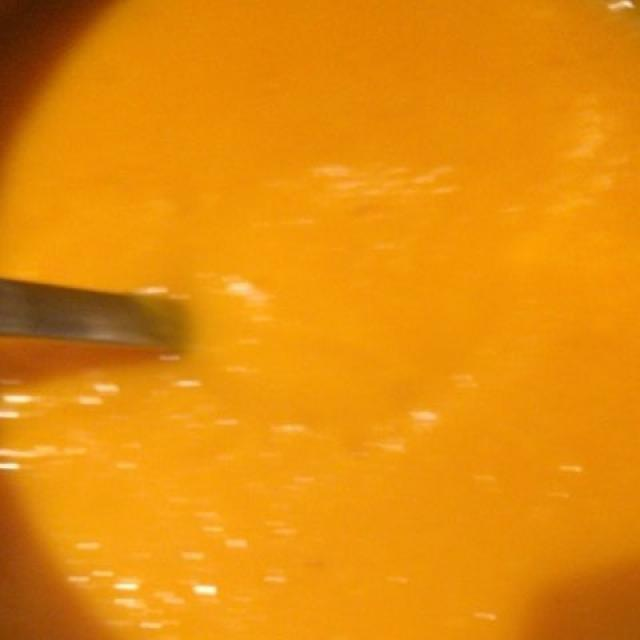soup: (4, 8, 633, 621)
